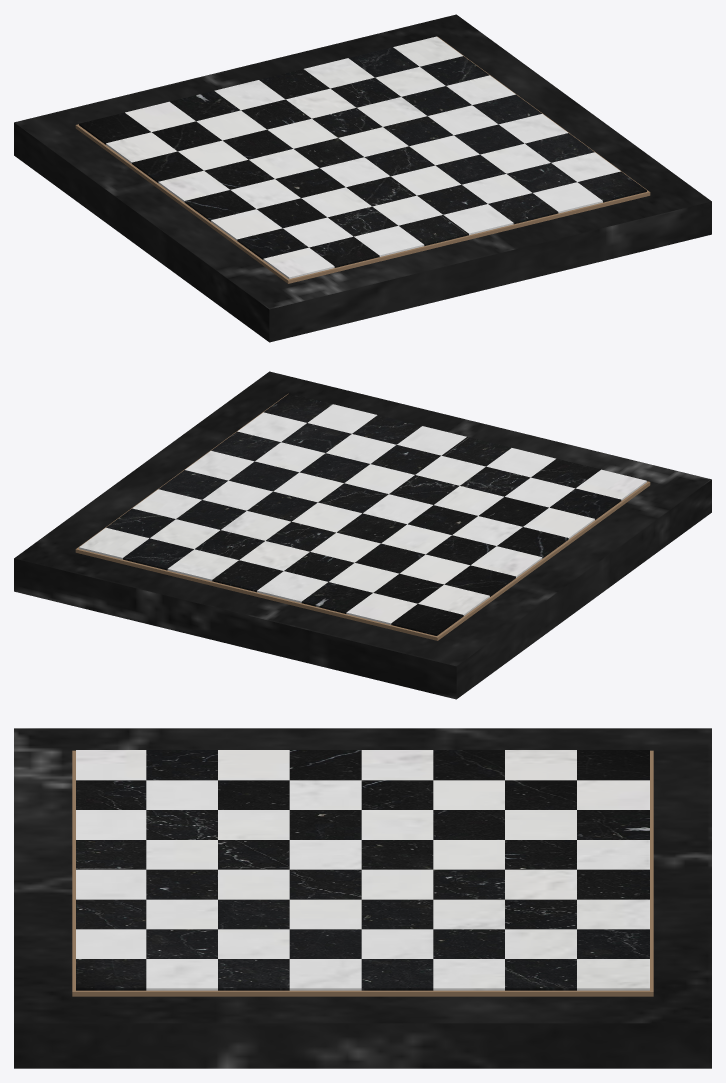
The model's file is board-stone.gltf.
3 renders of one model, top to bottom at view 1: azimuth 30°, elevation 25°; view 2: azimuth 150°, elevation 25°; view 3: azimuth 270°, elevation 25°, orthographic. The views are drawn at different scales.
Parts seen in each view (by area): view 1: Chess_Board_Border, Chess_Board_Tile_White, Chess_Board_Tile_Black, Chess_Board_Border_Tile; view 2: Chess_Board_Border, Chess_Board_Tile_Black, Chess_Board_Tile_White, Chess_Board_Border_Tile; view 3: Chess_Board_Border, Chess_Board_Tile_White, Chess_Board_Tile_Black, Chess_Board_Border_Tile.
Part boxes in pixels (x1,y1,x2,y2): Chess_Board_Border: (14,14,711,342); Chess_Board_Tile_White: (106,36,620,278); Chess_Board_Tile_Black: (79,47,646,267); Chess_Board_Border_Tile: (75,36,650,283); Chess_Board_Border: (14,371,711,699); Chess_Board_Tile_Black: (106,393,621,635); Chess_Board_Tile_White: (79,404,646,624); Chess_Board_Border_Tile: (75,393,650,640); Chess_Board_Border: (14,728,711,1068); Chess_Board_Tile_White: (76,750,649,990); Chess_Board_Tile_Black: (76,750,649,990); Chess_Board_Border_Tile: (72,750,653,996).
Bounding box in the file's own units: 700 × 57.5 × 700.
4 materials, 3 textured.
